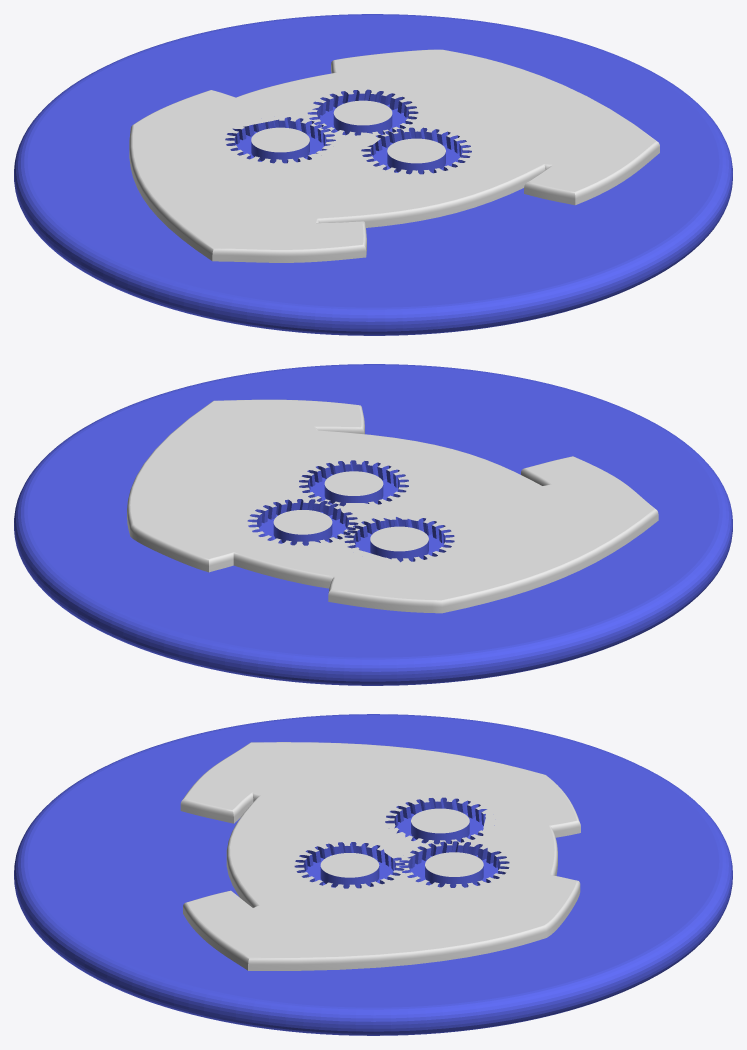
The model's file is discord.fbx.
3 renders of one model, top to bottom at view 1: azimuth 30°, elevation 25°; view 2: azimuth 150°, elevation 25°; view 3: azimuth 270°, elevation 25°, orthographic.
Parts seen in each view (by area): view 1: Circle.001; view 2: Circle.001; view 3: Circle.001.
Boxes of the visible parts, x1,y1,x2,y2 form: Circle.001: (14,14,732,335); Circle.001: (14,364,732,685); Circle.001: (14,714,732,1035).
Bounding box in the file's own units: 313 × 313 × 23.94.
